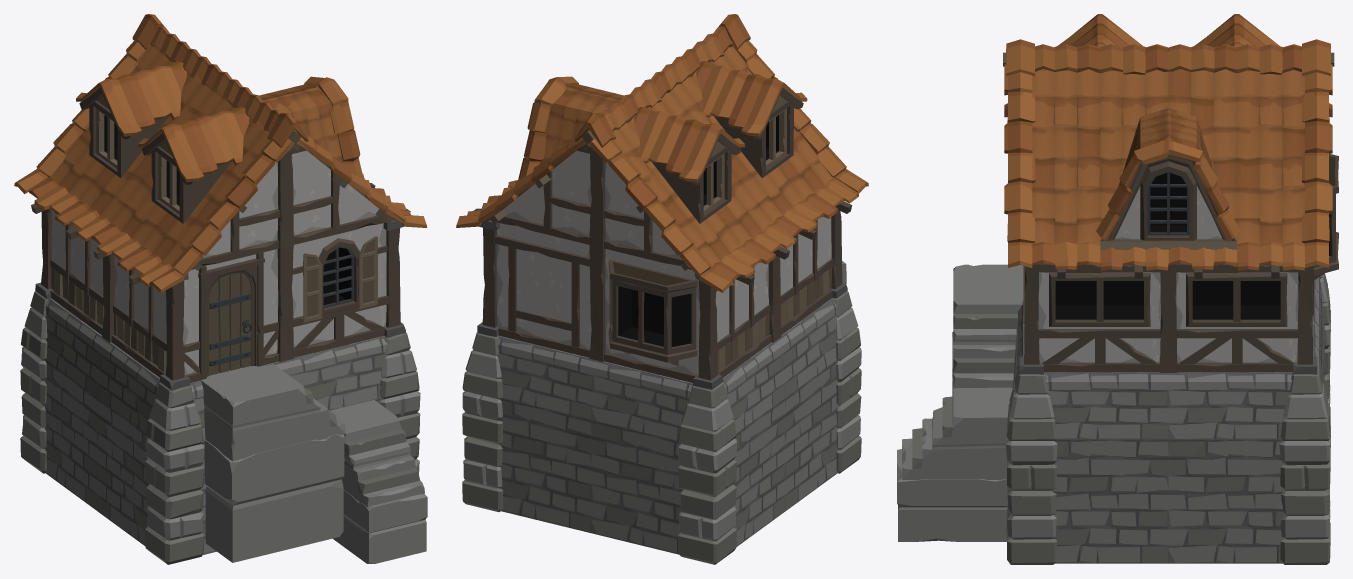
Rendered from SM_Bld_Preset_House_02_A_Optimized.glb.
3 views of the same model, side by side, from view 1: azimuth 30°, elevation 25°; view 2: azimuth 150°, elevation 25°; view 3: azimuth 270°, elevation 25° (orthographic). The views are drawn at different scales.
Visible parts, largest first — view 1: SM_Bld_Preset_House_02_A_Optimized; view 2: SM_Bld_Preset_House_02_A_Optimized; view 3: SM_Bld_Preset_House_02_A_Optimized.
Part boxes in pixels (bbox=[...]): SM_Bld_Preset_House_02_A_Optimized: bbox=[14, 14, 427, 564]; SM_Bld_Preset_House_02_A_Optimized: bbox=[456, 14, 868, 564]; SM_Bld_Preset_House_02_A_Optimized: bbox=[897, 14, 1338, 564].
Size of the model in its own units: 6.45 by 9.24 by 8.07.
Materials: 1 (1 with a texture image).
